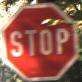Stop sign: (0, 0, 81, 81)
